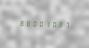eight: (17, 19, 23, 27), (24, 19, 30, 27), (59, 20, 65, 28)
one: (45, 20, 51, 28)
seven: (66, 20, 72, 28)
zero: (31, 19, 37, 27), (38, 19, 44, 27), (52, 20, 58, 28)
